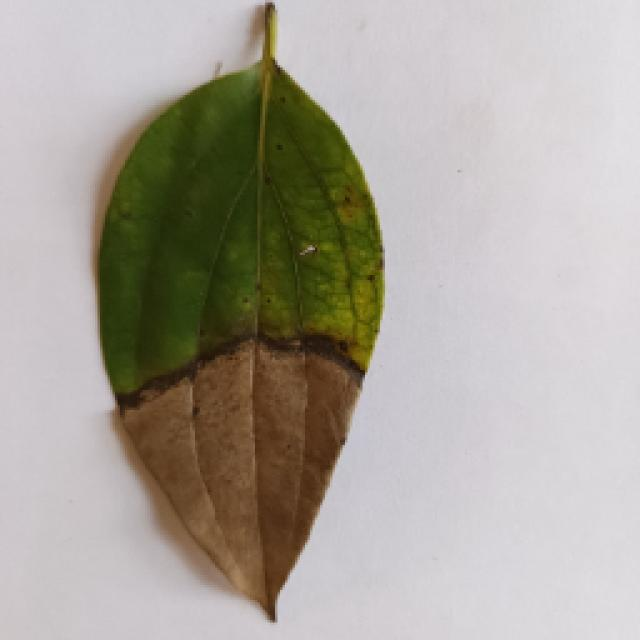footrot: (65, 15, 413, 617)
